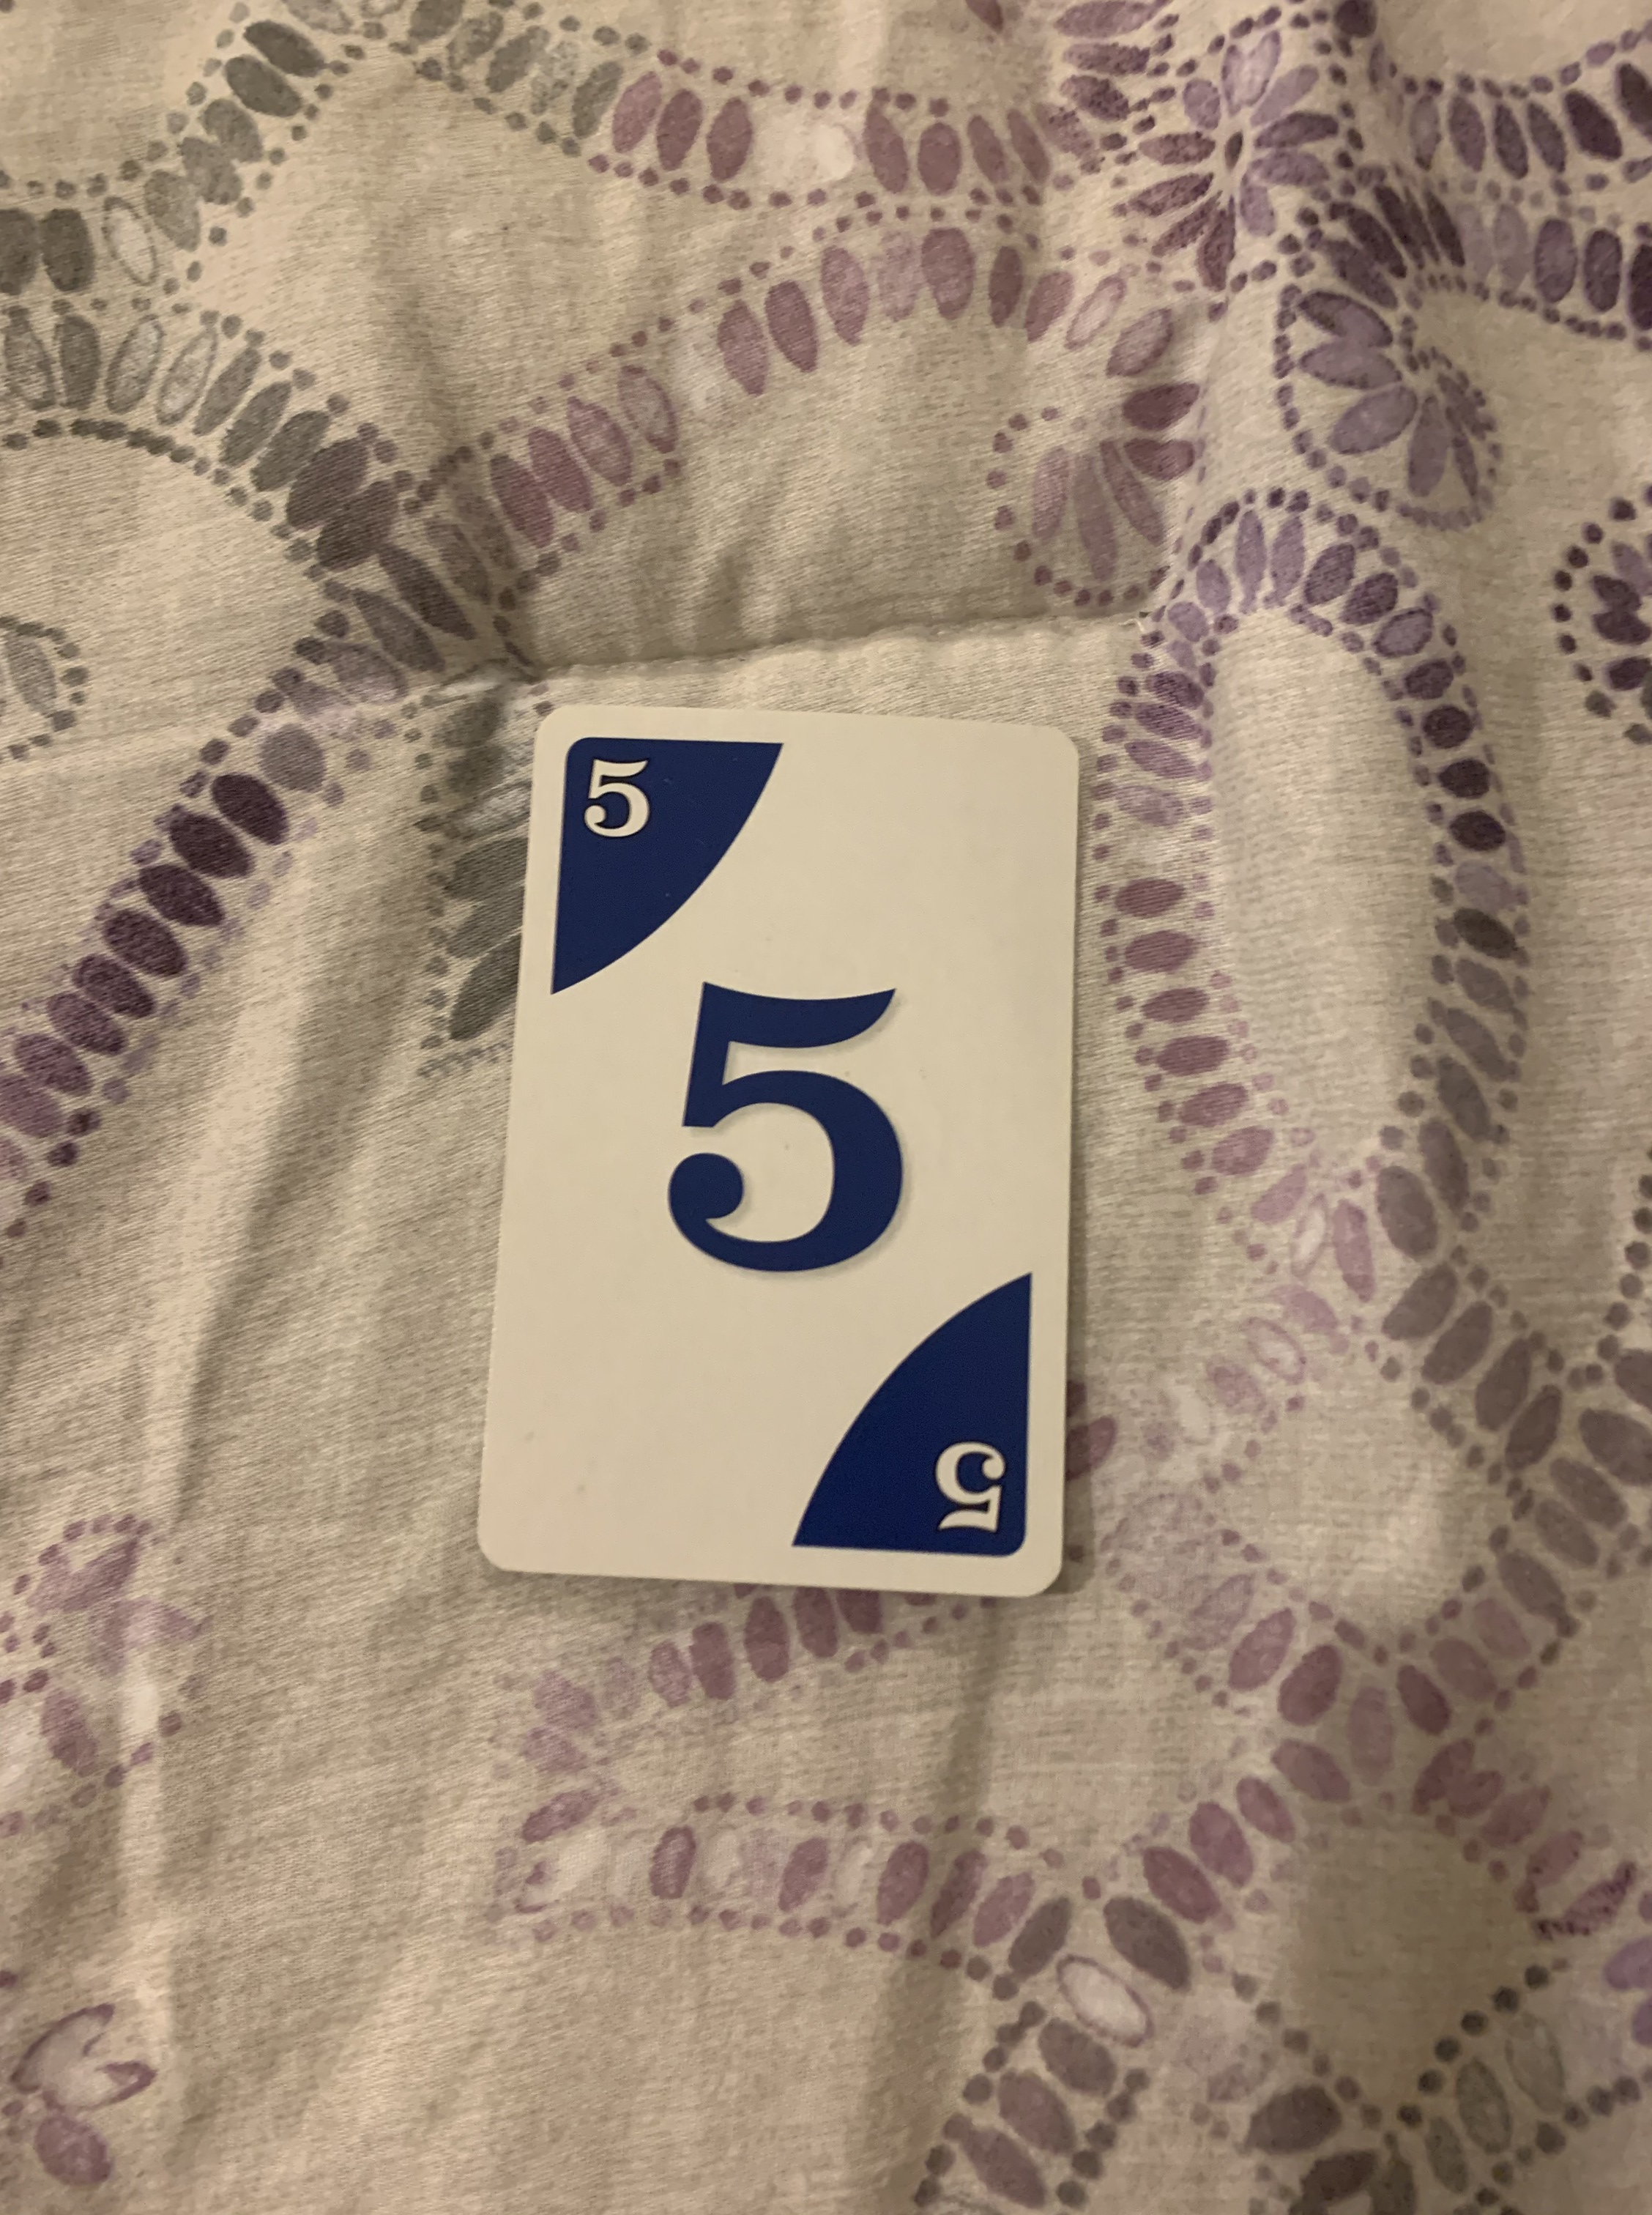five: (472, 700, 1085, 1606)
